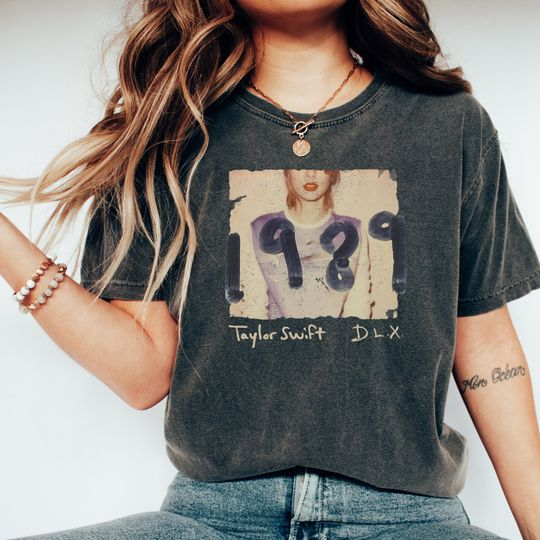design: (225, 166, 406, 351)
